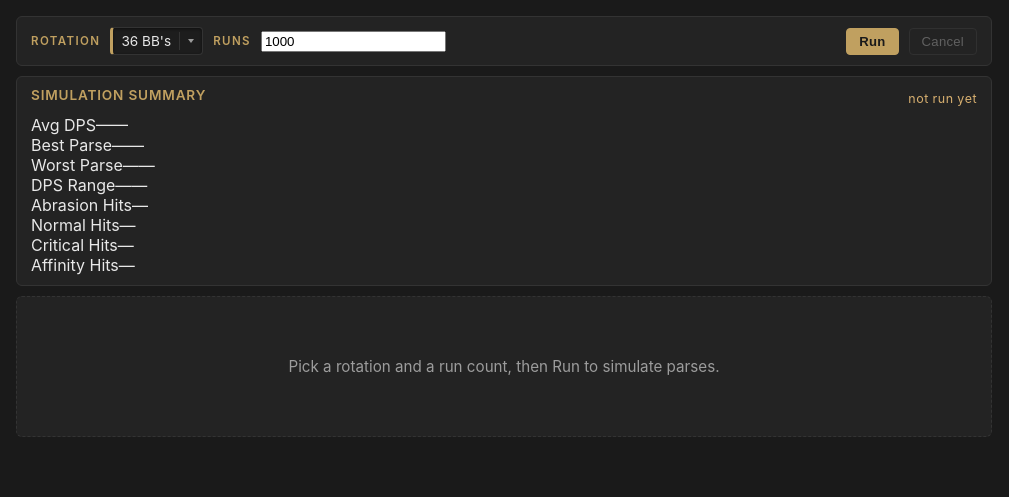
Test: SimulationTab › disables Run and enables Cancel while a simulation is in flight
The width and height of the screenshot is (1009, 497).
Click the button "Run" at point(872, 41), box [846,28,899,55]
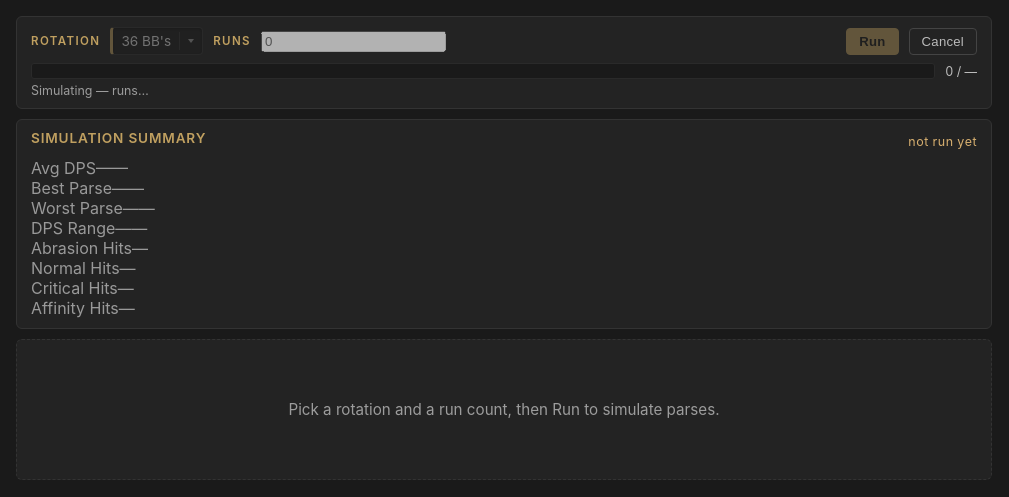
Expected: the button "Run" is disabled, [846,28,899,55]
Expected: the button "Cancel" is enabled, [909,28,977,55]
